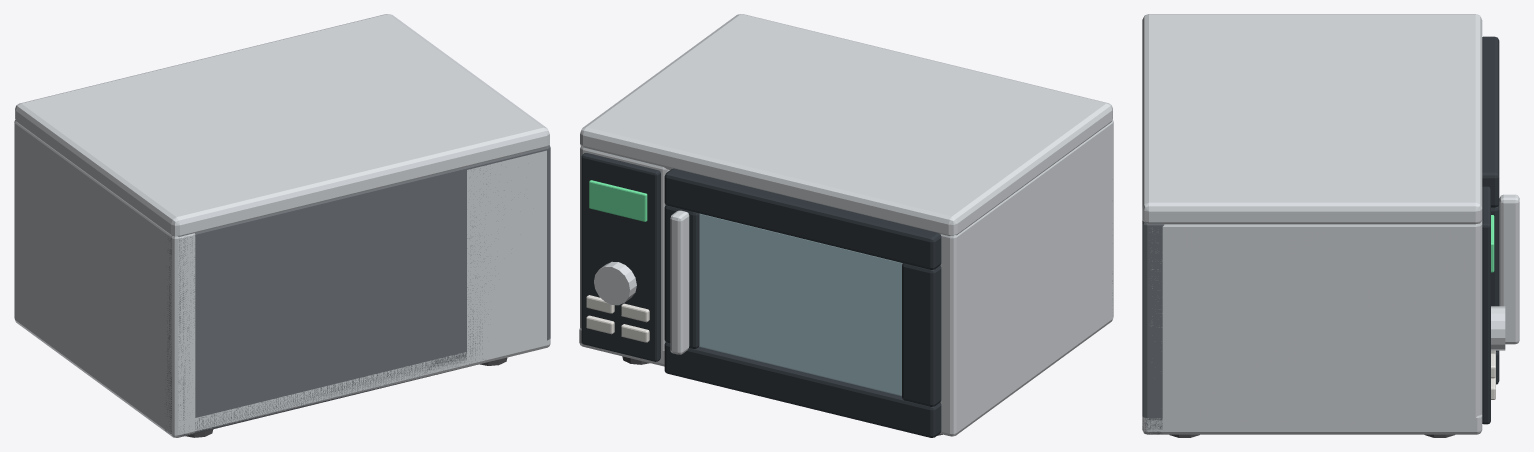
Rendered from SM_Microwave.fbx.
3 renders of one model, left to right at view 1: azimuth 30°, elevation 25°; view 2: azimuth 150°, elevation 25°; view 3: azimuth 270°, elevation 25°, orthographic. The views are drawn at different scales.
Parts seen in each view (by area): view 1: Microwave_Body; view 2: Microwave_Body, DoorLeaf, DigitalDisplay_Emitter; view 3: Microwave_Body, DoorLeaf.
Boxes of the visible parts, x1,y1,x2,y2 form: Microwave_Body: (14,14,550,437); Microwave_Body: (579,14,1113,436); DoorLeaf: (664,168,941,437); DigitalDisplay_Emitter: (589,180,647,221); Microwave_Body: (1142,14,1505,437); DoorLeaf: (1482,36,1519,384).
Bounding box in the file's own units: 54 × 44.4 × 32.
